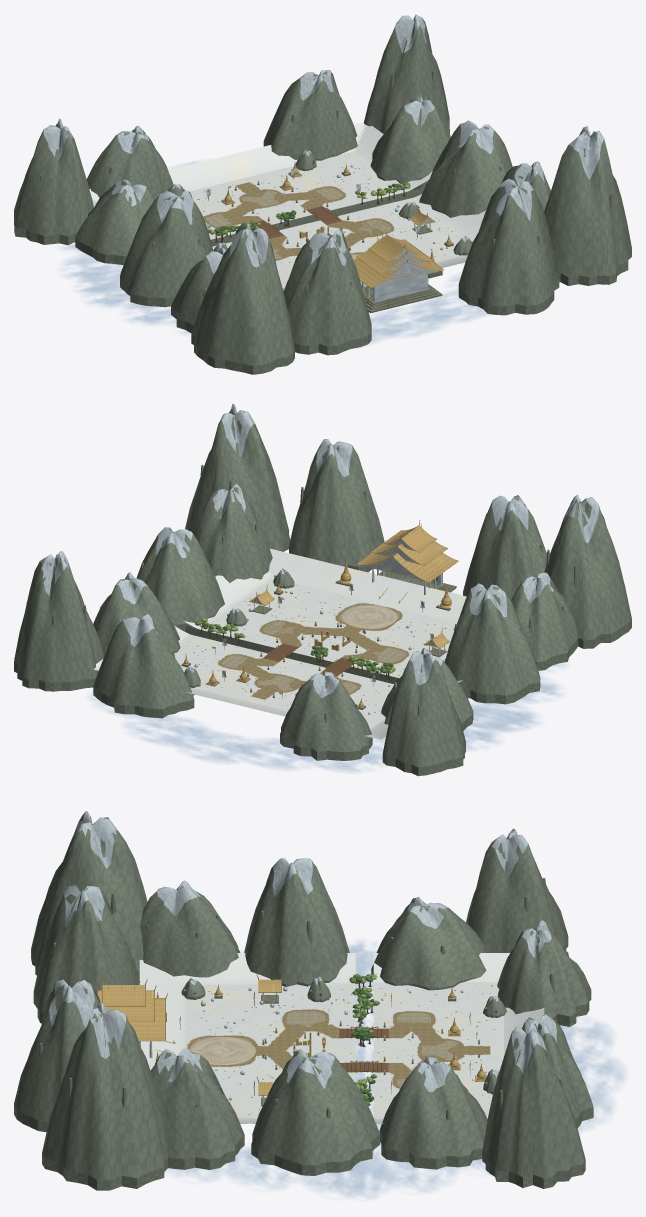
File: kailash-peak.glb
The picture shows the model from 3 angles, top to bottom: view 1: azimuth 30°, elevation 25°; view 2: azimuth 150°, elevation 25°; view 3: azimuth 270°, elevation 25°; orthographic projection. The views are drawn at different scales.
Visible parts, largest first — view 1: Layered limestone summit ridges | stone, Ground - varied meadow | ground_kailash_peak, Summit snow shelves | white, Cloud sea beneath cliffs | cloudSoft, Cliff grounded skirt | stone, Tracks - worn earth | path, Chasm stratified vertical faces | stone, Courtyard paving | paving_snow, Feathered road shoulders | path_edge, Celestial temple terraced platform | stone, Temple rear ivory wall | white, Temple main roof curved tiles | gold (+3 smaller); view 2: Layered limestone summit ridges | stone, Ground - varied meadow | ground_kailash_peak, Cloud sea beneath cliffs | cloudSoft, Summit snow shelves | white, Cliff grounded skirt | stone, Tracks - worn earth | path, Courtyard paving | paving_snow, Chasm stratified vertical faces | stone, Feathered road shoulders | path_edge, Temple main roof curved tiles | gold, White celestial arena | white, Eroded limestone vertical ribs | stone (+3 smaller); view 3: Layered limestone summit ridges | stone, Ground - varied meadow | ground_kailash_peak, Cloud sea beneath cliffs | cloudSoft, Summit snow shelves | white, Cliff grounded skirt | stone, Tracks - worn earth | path, Courtyard paving | paving_snow, Feathered road shoulders | path_edge, White celestial arena | white, Eroded limestone vertical ribs | stone, Temple crown roof curved tiles | gold, Temple main roof curved tiles | gold (+2 smaller).
Boxes of the visible parts, bbox=[...] form: Layered limestone summit ridges | stone: bbox=[14, 15, 631, 365]; Ground - varied meadow | ground_kailash_peak: bbox=[89, 122, 485, 288]; Summit snow shelves | white: bbox=[43, 14, 604, 273]; Cloud sea beneath cliffs | cloudSoft: bbox=[58, 159, 489, 348]; Cliff grounded skirt | stone: bbox=[14, 119, 631, 374]; Tracks - worn earth | path: bbox=[204, 182, 392, 260]; Chasm stratified vertical faces | stone: bbox=[210, 187, 424, 246]; Courtyard paving | paving_snow: bbox=[206, 187, 390, 258]; Feathered road shoulders | path_edge: bbox=[203, 182, 394, 260]; Celestial temple terraced platform | stone: bbox=[364, 284, 442, 313]; Temple rear ivory wall | white: bbox=[374, 274, 428, 302]; Temple main roof curved tiles | gold: bbox=[354, 240, 442, 287]; Layered limestone summit ridges | stone: bbox=[14, 406, 631, 767]; Ground - varied meadow | ground_kailash_peak: bbox=[93, 548, 466, 739]; Cloud sea beneath cliffs | cloudSoft: bbox=[87, 591, 567, 773]; Summit snow shelves | white: bbox=[40, 403, 599, 698]; Cliff grounded skirt | stone: bbox=[14, 531, 631, 776]; Tracks - worn earth | path: bbox=[219, 604, 407, 699]; Courtyard paving | paving_snow: bbox=[222, 604, 406, 693]; Chasm stratified vertical faces | stone: bbox=[185, 626, 398, 683]; Feathered road shoulders | path_edge: bbox=[217, 603, 409, 699]; Temple main roof curved tiles | gold: bbox=[358, 545, 457, 581]; White celestial arena | white: bbox=[343, 605, 395, 627]; Eroded limestone vertical ribs | stone: bbox=[26, 465, 577, 722]; Layered limestone summit ridges | stone: bbox=[14, 812, 593, 1179]; Ground - varied meadow | ground_kailash_peak: bbox=[139, 953, 544, 1123]; Cloud sea beneath cliffs | cloudSoft: bbox=[165, 939, 627, 1200]; Summit snow shelves | white: bbox=[49, 811, 557, 1092]; Cliff grounded skirt | stone: bbox=[14, 936, 593, 1190]; Tracks - worn earth | path: bbox=[189, 1010, 490, 1087]; Courtyard paving | paving_snow: bbox=[193, 1011, 457, 1087]; Feathered road shoulders | path_edge: bbox=[187, 1009, 490, 1088]; White celestial arena | white: bbox=[191, 1037, 254, 1063]; Eroded limestone vertical ribs | stone: bbox=[38, 878, 571, 1120]; Temple crown roof curved tiles | gold: bbox=[102, 985, 144, 1006]; Temple main roof curved tiles | gold: bbox=[107, 998, 165, 1040].
Size of the model in its own units: 276 by 87.41 by 275.
18 materials, 17 textured.
